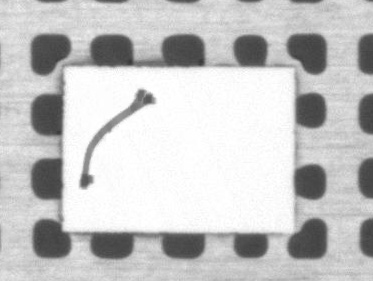DIE_INK: (77, 89, 154, 191)
